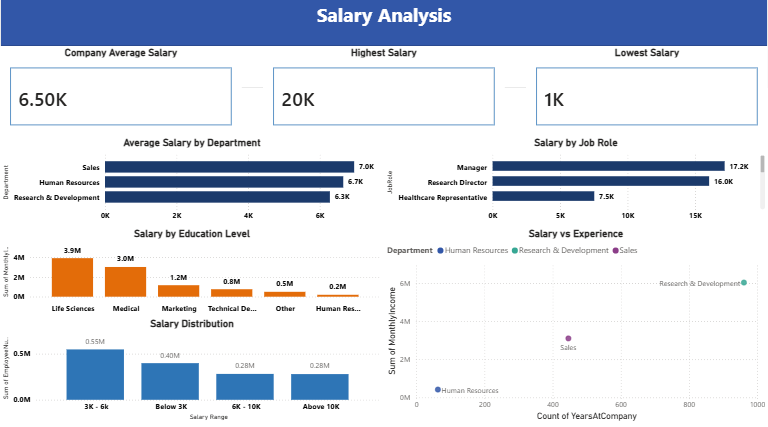

Layout of this report page (visuals, bound fields, positions):
{"tool":"powerbi","page":{"name":"Page 3","canvas":[1280,720],"ordinal":2},"visuals":[{"type":"shape","box":[0,0,1280,80],"z":0},{"type":"textbox","box":[0,0,1280,149.5],"z":1000},{"type":"cardVisual","title":"Company Average Salary","fields":{"Data":["Avg(WA_Fn-UseC_-HR-Employee-Attrition.MonthlyIncome)"]},"box":[0,80.6,403.1,149.5],"z":2000},{"type":"cardVisual","title":"Highest Salary","fields":{"Data":["Max(WA_Fn-UseC_-HR-Employee-Attrition.MonthlyIncome)"]},"box":[438.4,80.6,403.1,149.5],"z":3000},{"type":"cardVisual","title":"Lowest Salary","fields":{"Data":["Min(WA_Fn-UseC_-HR-Employee-Attrition.MonthlyIncome)"]},"box":[876.9,80.6,403.1,149.5],"z":4000},{"type":"clusteredBarChart","title":"Average Salary by Department","fields":{"Category":["WA_Fn-UseC_-HR-Employee-Attrition.Department"],"Y":["Avg(WA_Fn-UseC_-HR-Employee-Attrition.MonthlyIncome)"]},"box":[0,230.1,640,151.2],"z":5000},{"type":"clusteredBarChart","title":"Salary by Job Role","fields":{"Category":["WA_Fn-UseC_-HR-Employee-Attrition.JobRole"],"Y":["Avg(WA_Fn-UseC_-HR-Employee-Attrition.MonthlyIncome)"]},"box":[640,230.1,640,151.2],"z":6000},{"type":"clusteredColumnChart","title":"Salary by Education Level","fields":{"Y":["Sum(WA_Fn-UseC_-HR-Employee-Attrition.MonthlyIncome)"],"Category":["WA_Fn-UseC_-HR-Employee-Attrition.EducationField"]},"box":[0,381.3,640,151.2],"z":7000},{"type":"scatterChart","title":"Salary vs Experience","fields":{"X":["CountNonNull(WA_Fn-UseC_-HR-Employee-Attrition.YearsAtCompany)"],"Y":["Sum(WA_Fn-UseC_-HR-Employee-Attrition.MonthlyIncome)"],"Series":["WA_Fn-UseC_-HR-Employee-Attrition.Department"]},"box":[640,381.3,640,327.6],"z":8000},{"type":"clusteredColumnChart","title":"Salary Distribution","fields":{"Y":["Sum(WA_Fn-UseC_-HR-Employee-Attrition.EmployeeNumber)"],"Category":["WA_Fn-UseC_-HR-Employee-Attrition.Salary Range"]},"box":[0,532,640,177],"z":9000},{"type":"actionButton","title":"Overview","box":[0,1.7,165,78.3],"z":10000},{"type":"actionButton","title":"Attrition","box":[165,0,140,80],"z":11000},{"type":"actionButton","title":"Salary","box":[906.7,0,163.3,80],"z":12000},{"type":"actionButton","title":"Details","box":[1070,0,210,80],"z":13000}]}

Visuals, with their boxes in screenshot pixels (x1, y1, x2, y2), scaled from the page's 1280x720 canvas onto the 768x427 screenshot:
shape: box(0, 0, 767, 47)
textbox: box(0, 0, 767, 89)
"Company Average Salary" cardVisual: box(0, 48, 242, 136)
"Highest Salary" cardVisual: box(263, 48, 505, 136)
"Lowest Salary" cardVisual: box(526, 48, 767, 136)
"Average Salary by Department" clusteredBarChart: box(0, 136, 384, 226)
"Salary by Job Role" clusteredBarChart: box(384, 136, 767, 226)
"Salary by Education Level" clusteredColumnChart: box(0, 226, 384, 316)
"Salary vs Experience" scatterChart: box(384, 226, 767, 420)
"Salary Distribution" clusteredColumnChart: box(0, 316, 384, 420)
"Overview" actionButton: box(0, 1, 99, 47)
"Attrition" actionButton: box(99, 0, 183, 47)
"Salary" actionButton: box(544, 0, 642, 47)
"Details" actionButton: box(642, 0, 767, 47)
